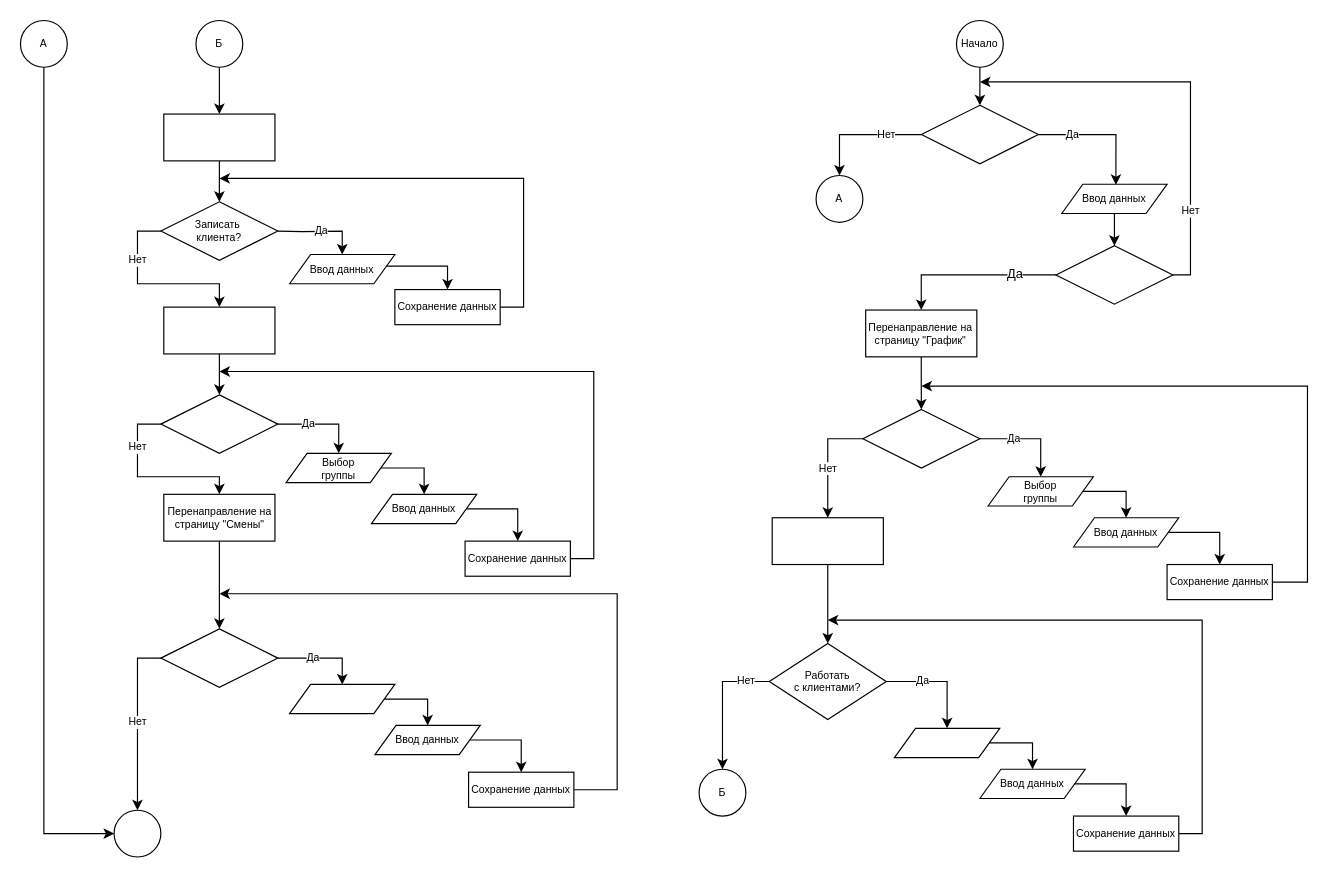
The diagram is 1337 pixels wide and 877 high, and some of its shapes have lost their labels. Each missing label, with the box of its shape:
Авторизоваться?: (920, 104, 1038, 164)
Выбор клиента: (893, 727, 1000, 758)
Выбор смены: (288, 683, 395, 714)
Данные верны?: (1055, 245, 1173, 304)
Закрыть смену?: (160, 628, 278, 687)
Конец: (113, 809, 161, 857)
Перенаправление на страницу "записать": (163, 113, 275, 161)
Перенаправление на страницу "Записи": (163, 306, 275, 354)
Перенаправление на страницу "Клиенты": (771, 517, 883, 565)
Работать с графиком?: (862, 408, 980, 468)
Работать с записью?: (160, 394, 278, 453)
